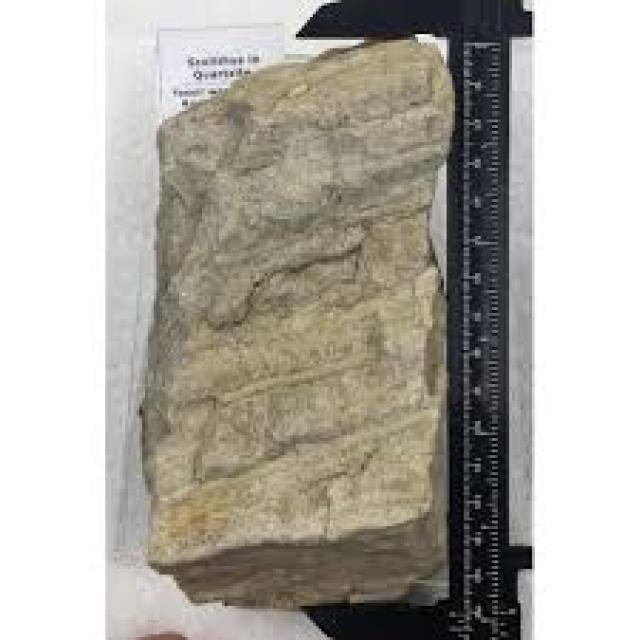Metamorphic: (148, 28, 432, 618)
